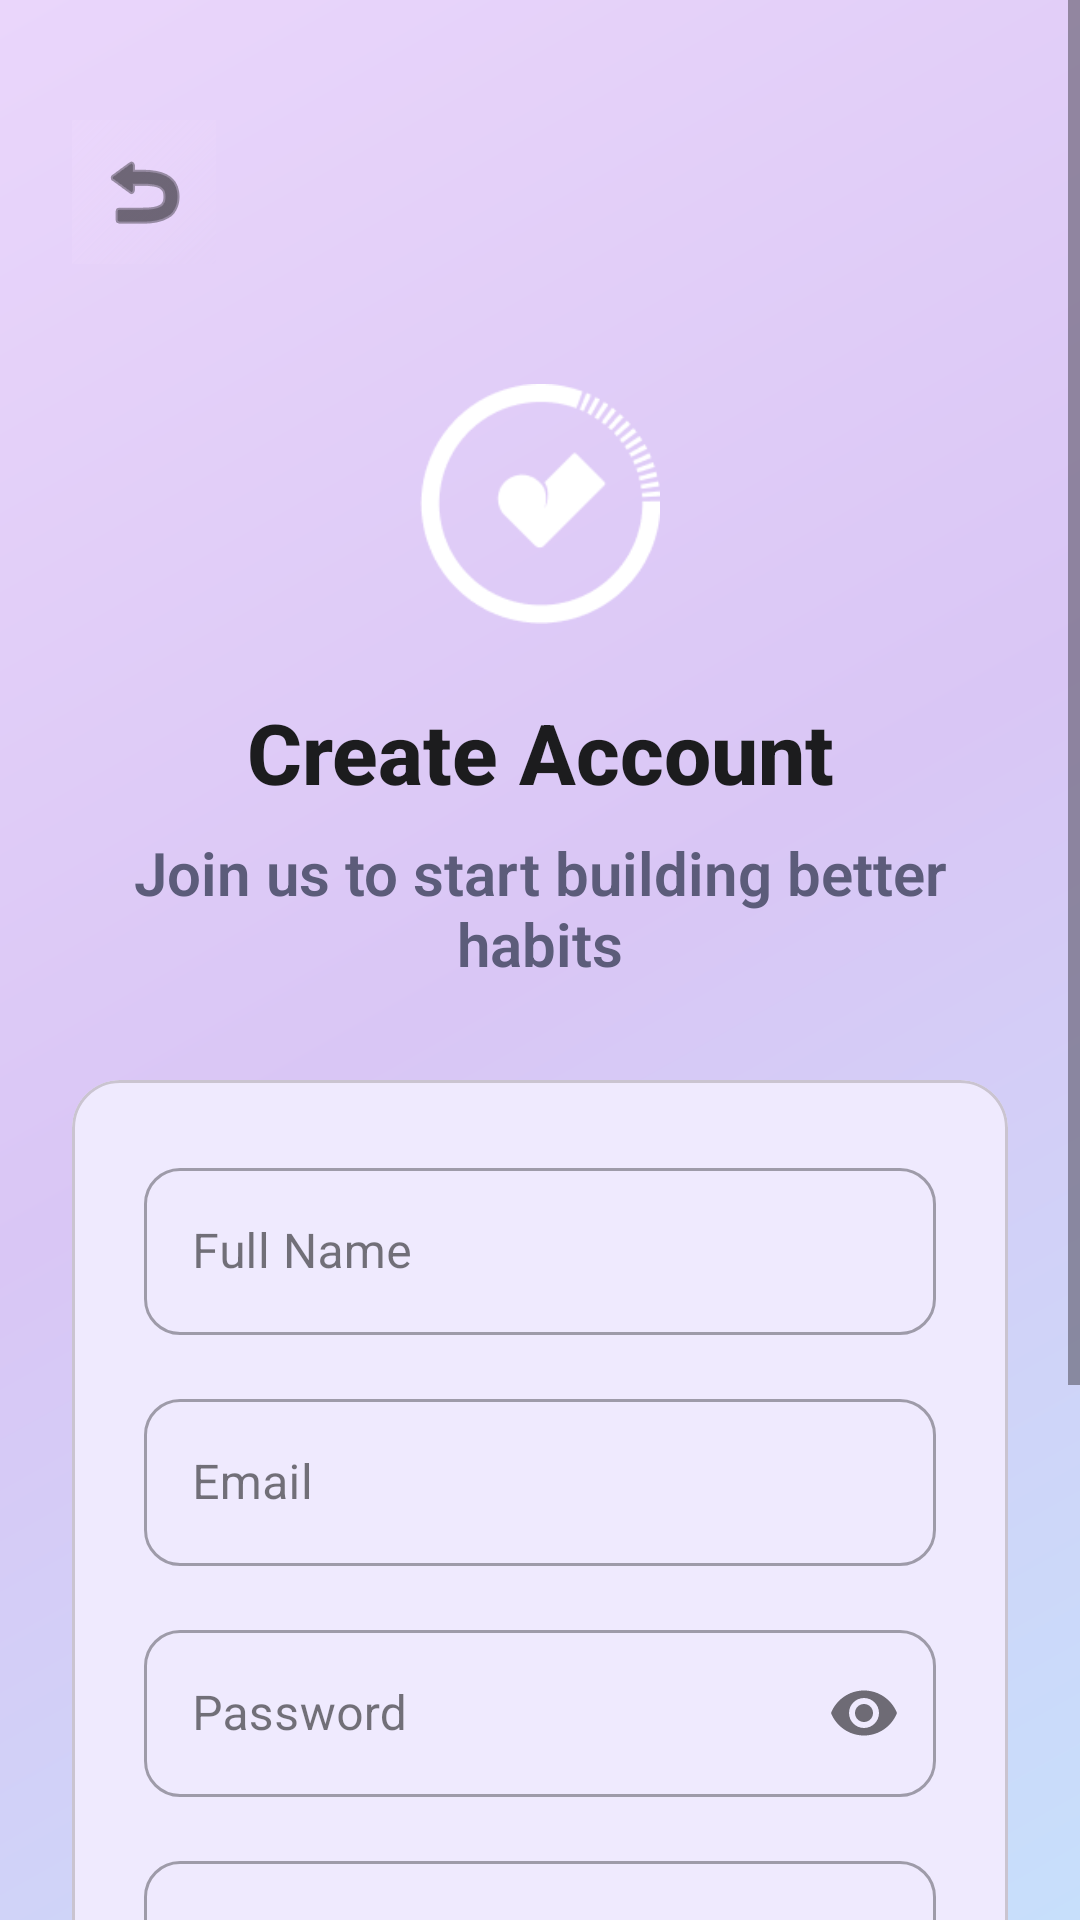

Screen size 1080w x 1920h. Icon name, then its box in pixels as (x1, y1, x2, y2):
revert: (111, 161, 180, 224)
